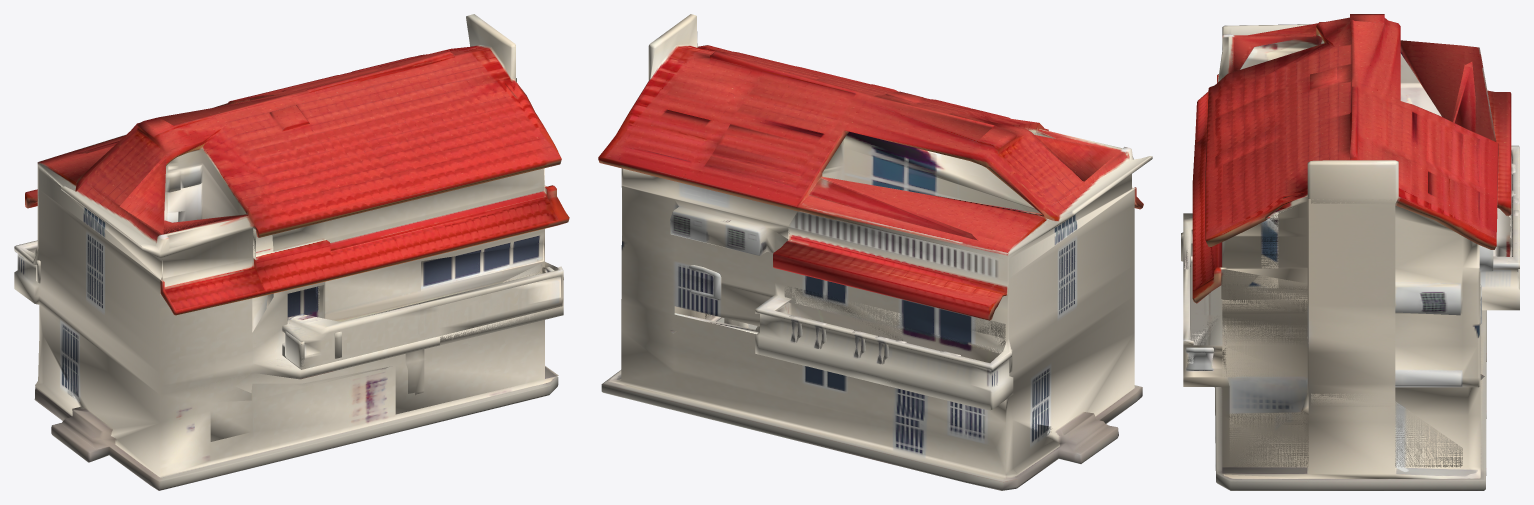
The model's file is bld_406278425.glb.
3 views of the same model, side by side, from view 1: azimuth 30°, elevation 25°; view 2: azimuth 150°, elevation 25°; view 3: azimuth 270°, elevation 25° (orthographic). The views are drawn at different scales.
Bounding box in the file's own units: 1.91 × 1.34 × 1.26.
Materials: 1 (1 with a texture image).
